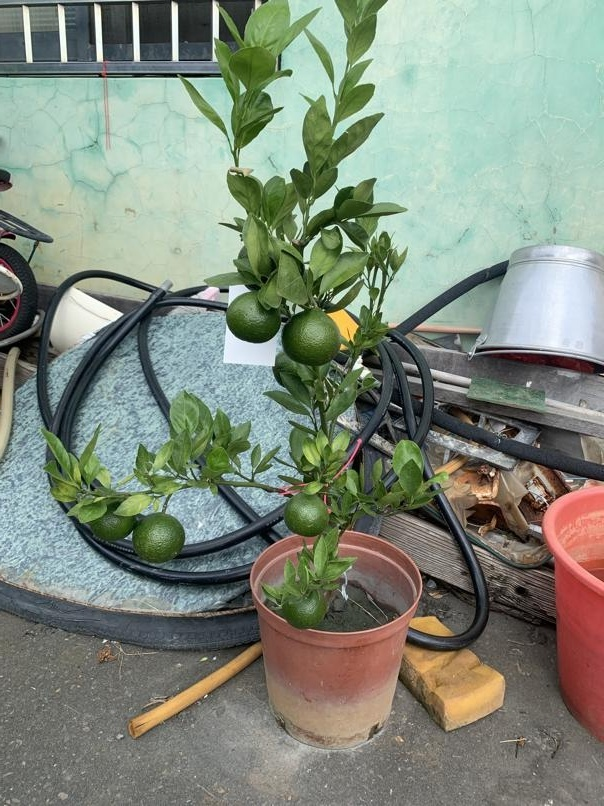Tangerine: (280, 306, 340, 366), (223, 290, 283, 346), (129, 512, 186, 567), (280, 586, 328, 632), (285, 491, 329, 538)
